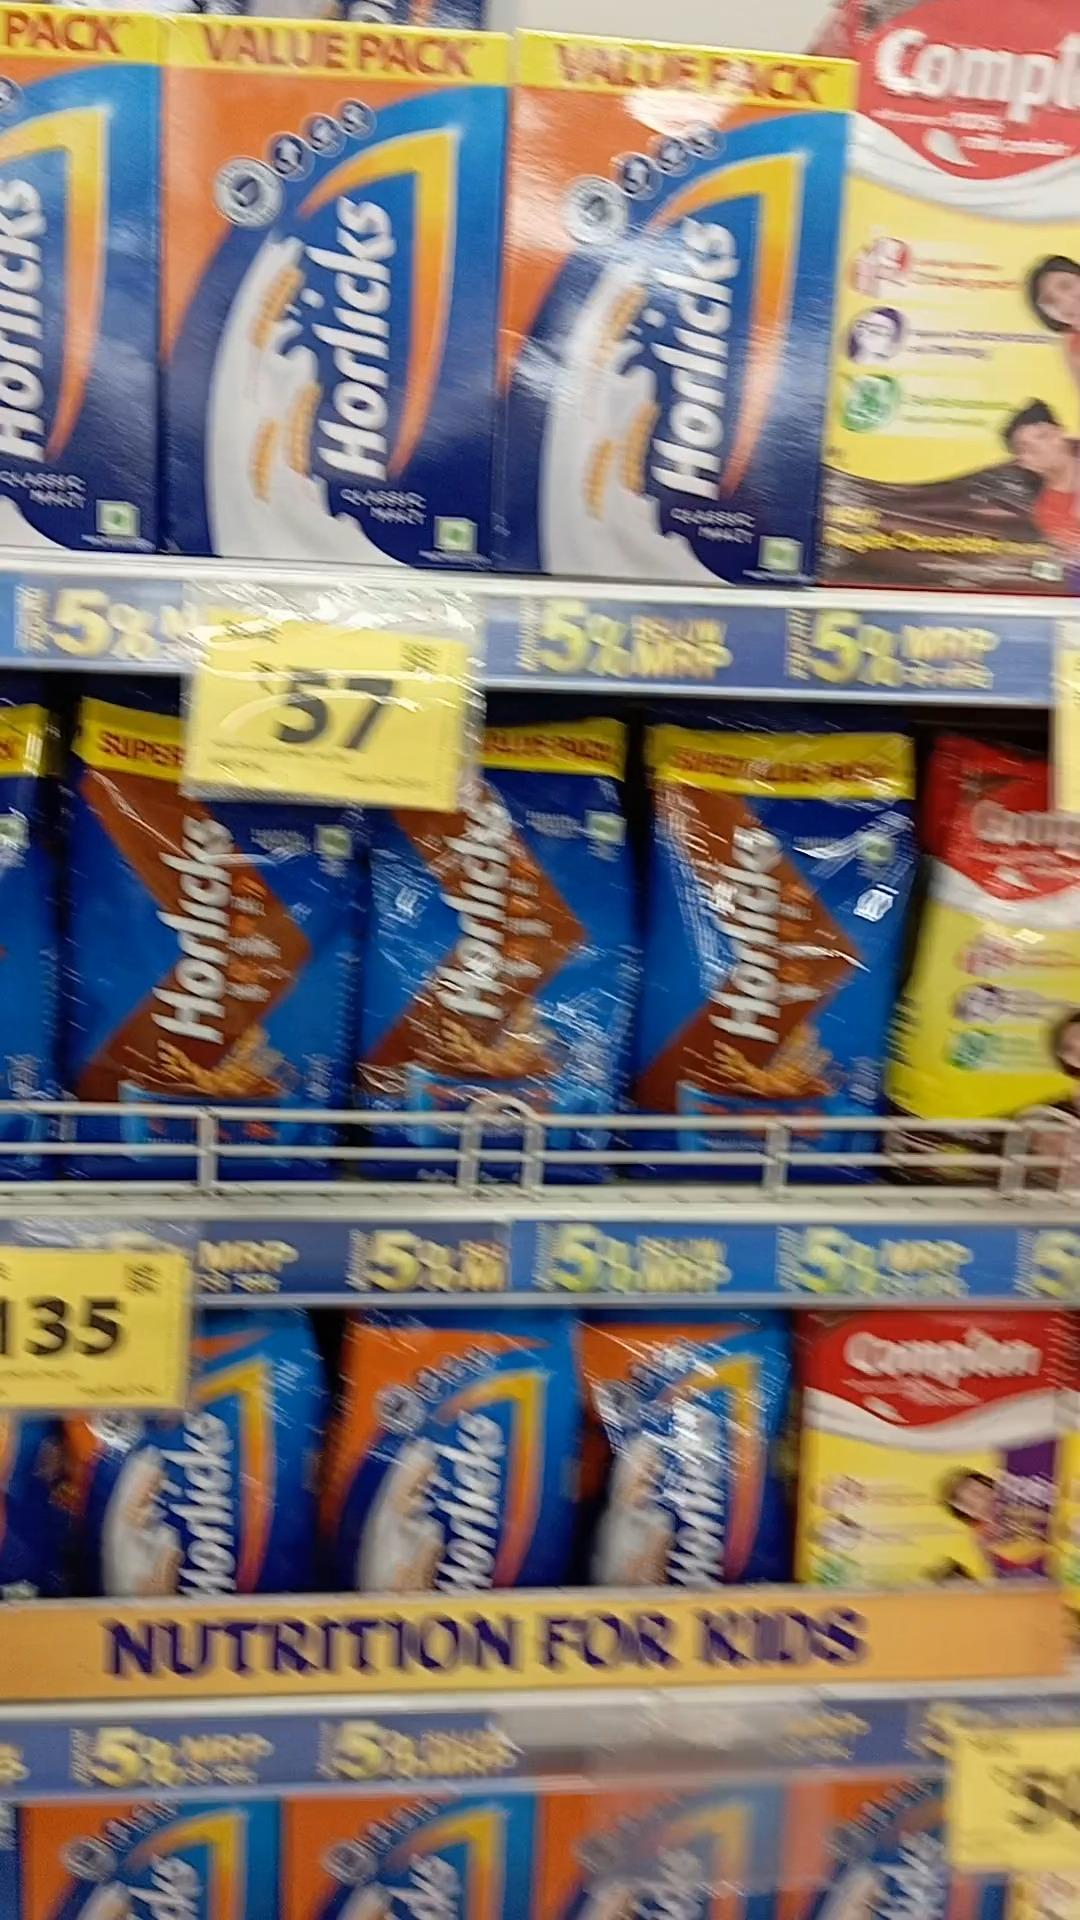HORLICK_CHOCOLATE_750_G_POUCH: (69, 708, 352, 1182), (654, 729, 916, 1192), (368, 779, 641, 1208)
HORLICK_CLASSIC_MALT_750_G_POUCH: (315, 1308, 555, 1589), (570, 1313, 791, 1597)
